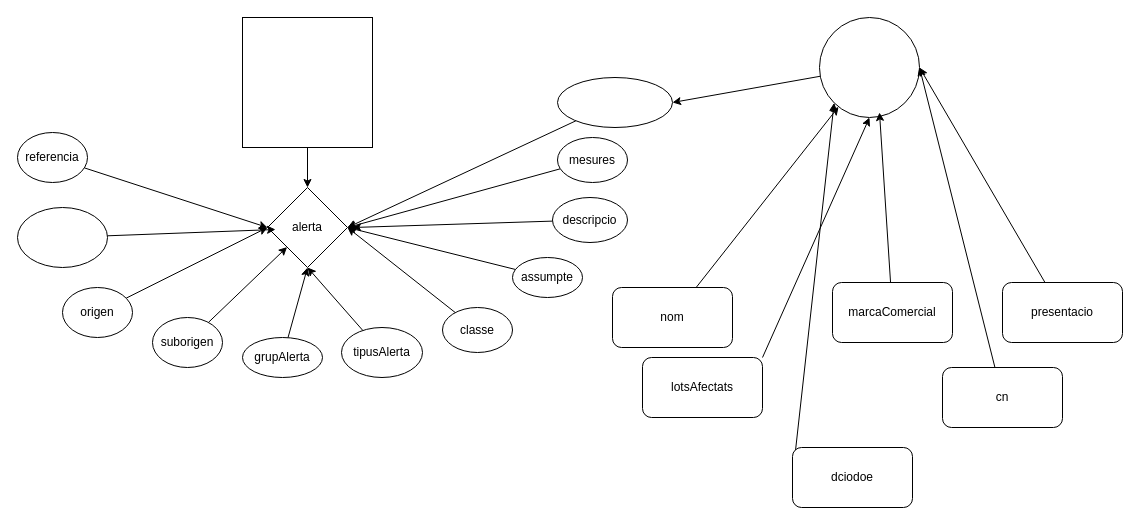
The diagram is 1140 pixels wide and 525 high, and some of its shapes have lost their labels. The box of each missing label's shape, as (x1, y1, x2, y2) in pixels:
alertesFarmaceutiques: (242, 16, 372, 148)
dataNotificacio: (16, 206, 108, 268)
producteAfectat: (818, 16, 920, 118)
productesAfectats: (556, 76, 672, 128)
